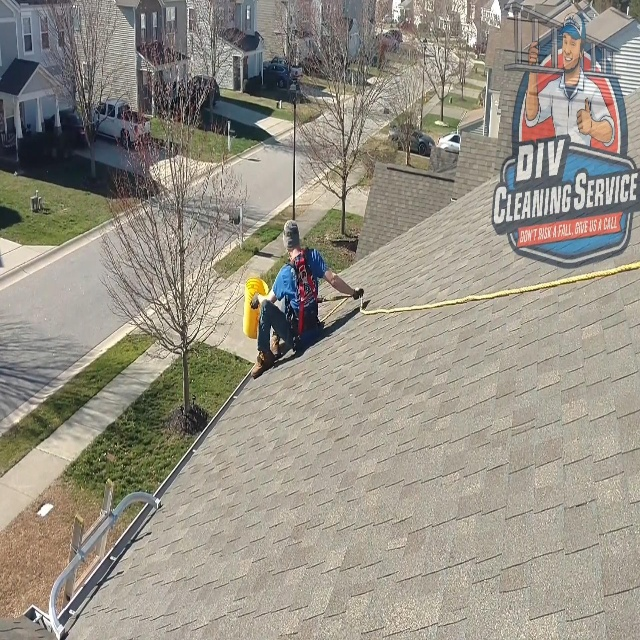Arnes_seguridad: (282, 249, 321, 350)
